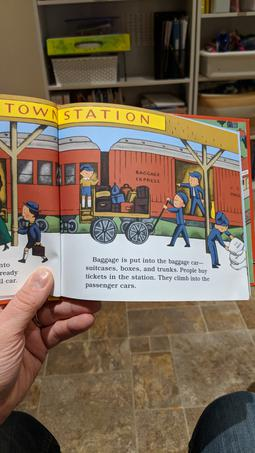text block: (73, 251, 217, 294), (1, 261, 25, 288)
